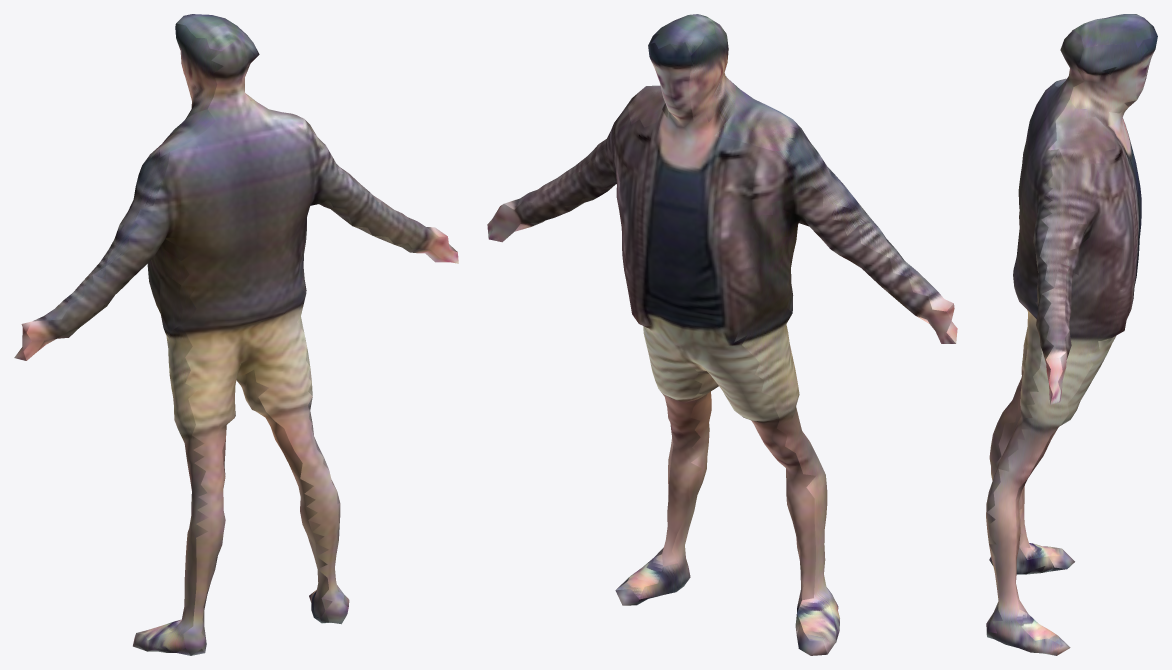
3 renders of one model, left to right at view 1: azimuth 30°, elevation 25°; view 2: azimuth 150°, elevation 25°; view 3: azimuth 270°, elevation 25°, orthographic. The views are drawn at different scales.
Parts seen in each view (by area): view 1: world; view 2: world; view 3: world.
Boxes of the visible parts, bbox=[...] form: world: bbox=[14, 14, 458, 655]; world: bbox=[487, 14, 957, 655]; world: bbox=[986, 14, 1157, 655].
Bounding box in the file's own units: 0.7915 × 1 × 0.2639.
1 material, 1 textured.
